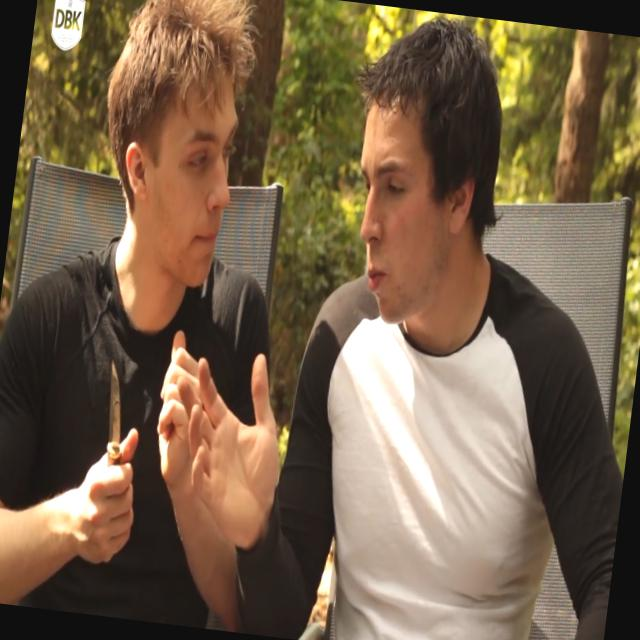knife: (71, 338, 157, 514)
